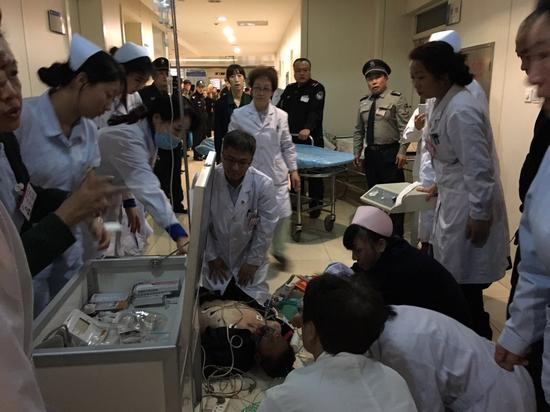10+: (1, 1, 547, 407)
down: (186, 274, 297, 382)
